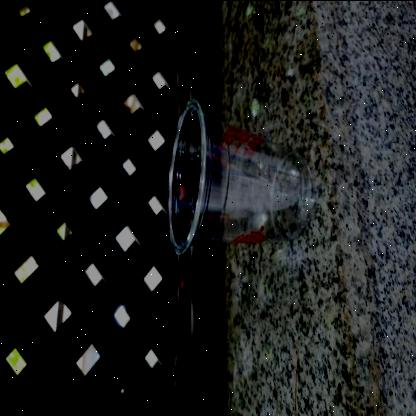Others: (164, 94, 318, 260)
